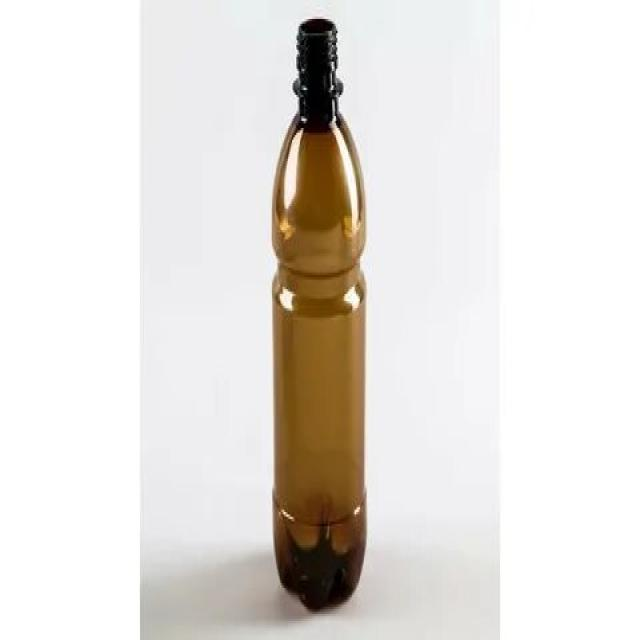brown: (273, 19, 367, 613)
